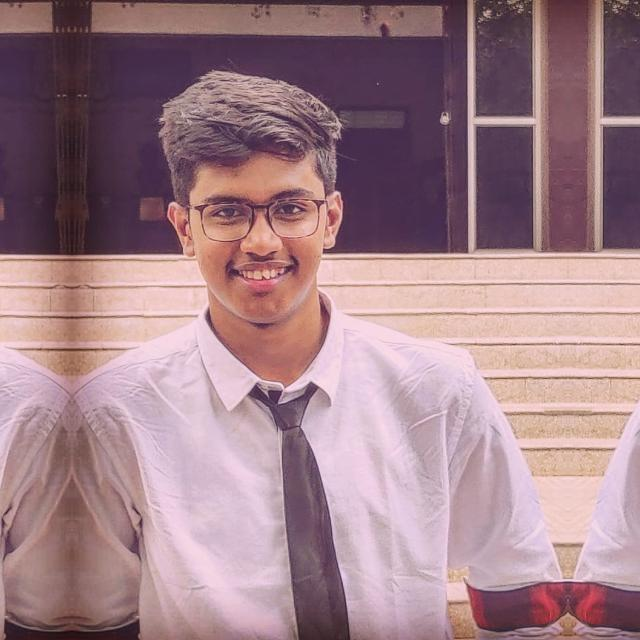person: (100, 56, 472, 640), (0, 56, 41, 640)
